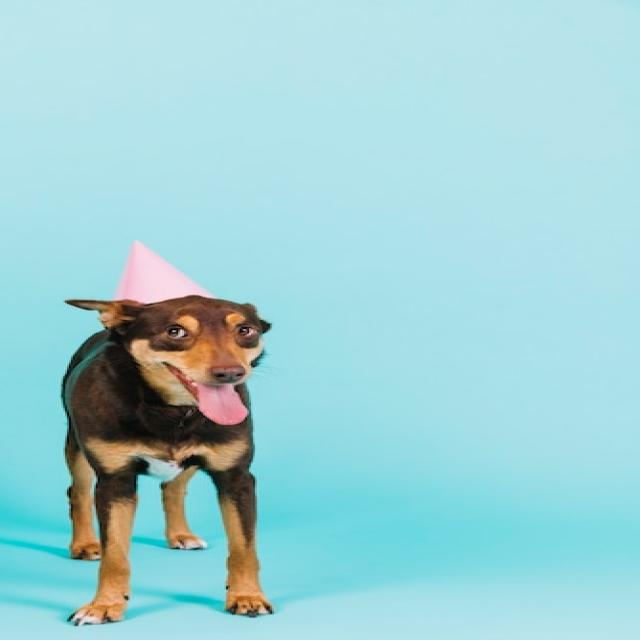Dog: (2, 295, 271, 626)
